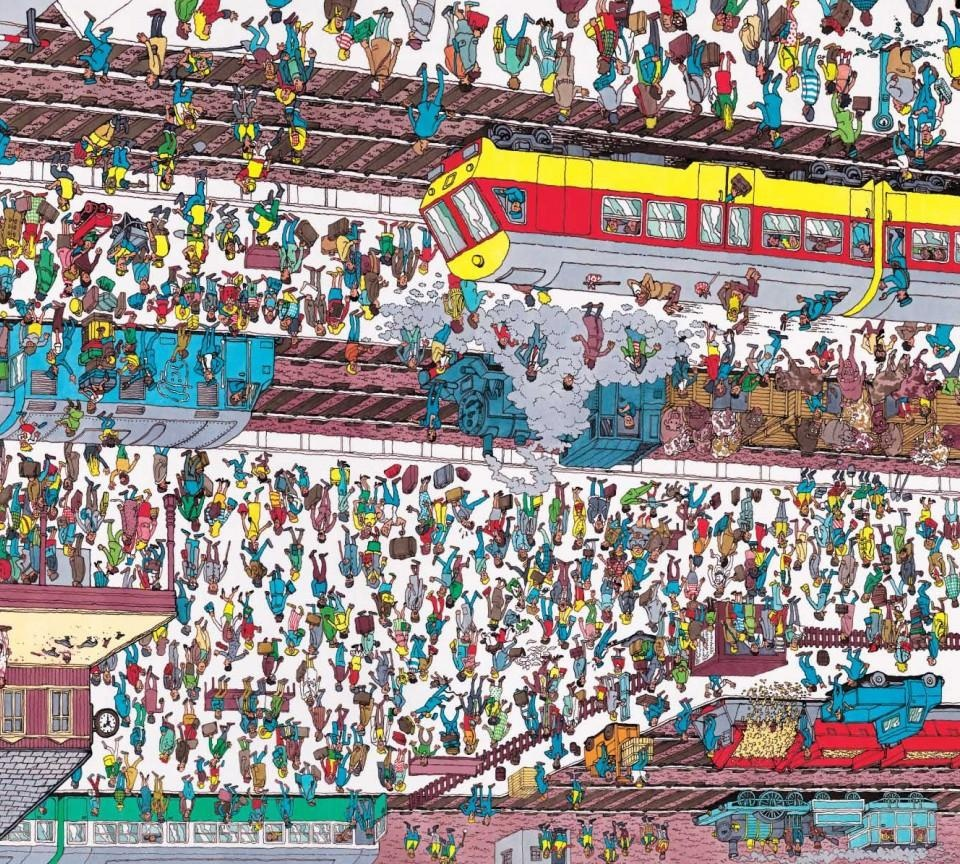waldo: (605, 559, 630, 589)
